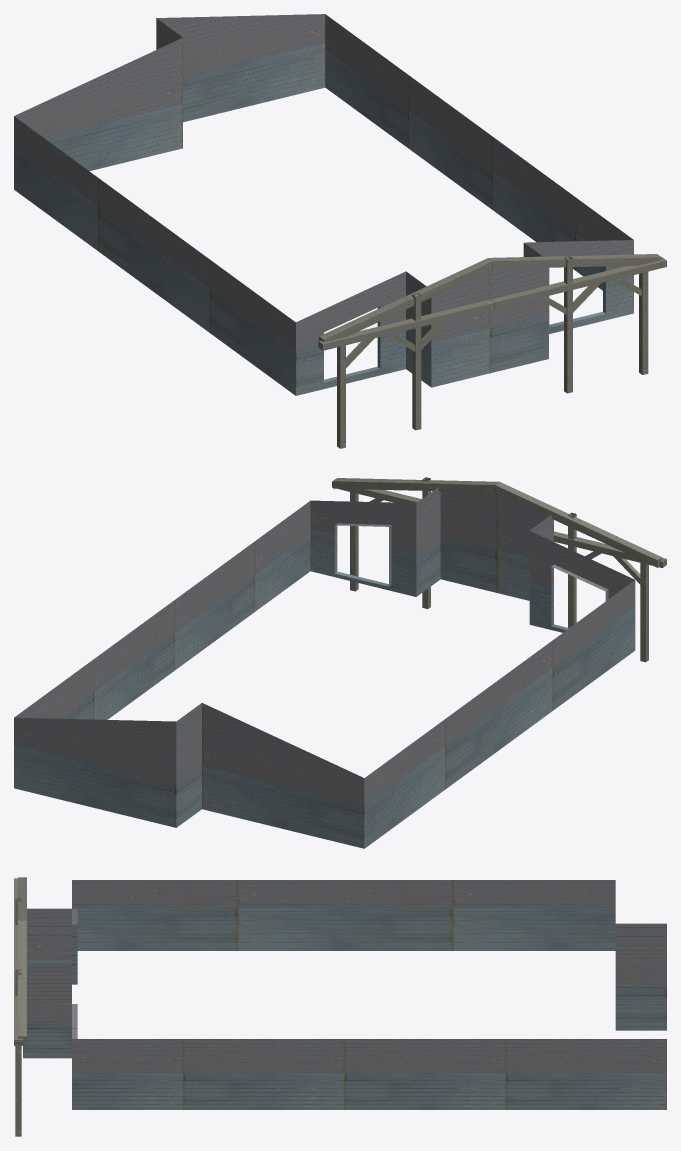
Rendered from rural_woodenbuilding_3_rural_walltrim_1_0.glb.
3 renders of one model, top to bottom at view 1: azimuth 30°, elevation 25°; view 2: azimuth 150°, elevation 25°; view 3: azimuth 270°, elevation 25°, orthographic. The views are drawn at different scales.
Visible parts, largest first — view 1: Rural_WoodenBuilding_3_Rural_Walltrim_1_0; view 2: Rural_WoodenBuilding_3_Rural_Walltrim_1_0; view 3: Rural_WoodenBuilding_3_Rural_Walltrim_1_0.
Part boxes in pixels (x1=…): Rural_WoodenBuilding_3_Rural_Walltrim_1_0: x1=14, y1=14, x2=666, y2=448; Rural_WoodenBuilding_3_Rural_Walltrim_1_0: x1=14, y1=477, x2=666, y2=848; Rural_WoodenBuilding_3_Rural_Walltrim_1_0: x1=14, y1=877, x2=666, y2=1136.
Size of the model in its own units: 7.72 by 3.19 by 13.16.
1 material, 1 textured.
